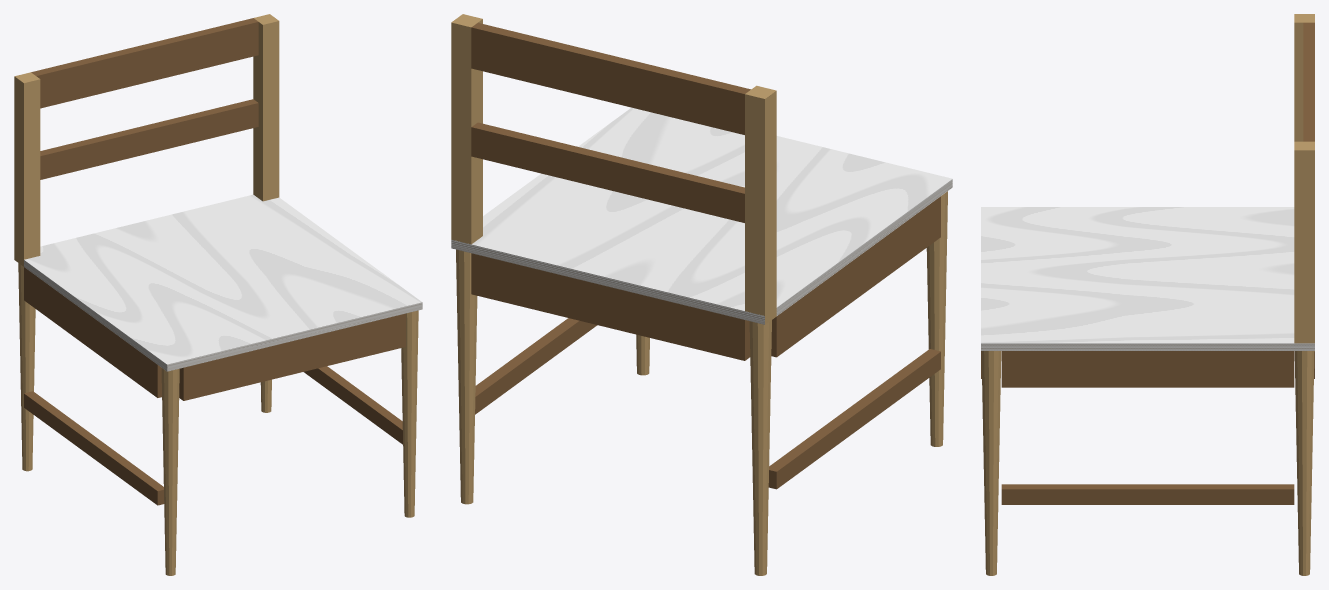
Rendered from ATL-ACC-std.glb.
3 renders of one model, left to right at view 1: azimuth 30°, elevation 25°; view 2: azimuth 150°, elevation 25°; view 3: azimuth 270°, elevation 25°, orthographic. The views are drawn at different scales.
Visible parts, largest first — view 1: seat:sheet:eyJtIjoicGx5Iiwic2lkZSI6ImZhY2UiLCJzZWVkIjo2LCJ2Z, back-top:pbr, rail-f:pbr, leg-bl:pbr, back-mid:pbr, leg-br:pbr, rail-l:pbr, stretcher-l:pbr, leg-fl:pbr, leg-fr:pbr, stretcher-r:pbr, seat:sheet:eyJtIjoicGx5Iiwic2lkZSI6ImVkZ2UtZW5kIiwic2VlZCI6N (+1 smaller); view 2: seat:sheet:eyJtIjoicGx5Iiwic2lkZSI6ImZhY2UiLCJzZWVkIjo2LCJ2Z, back-top:pbr, leg-bl:pbr, rail-b:pbr, leg-br:pbr, back-mid:pbr, rail-l:pbr, stretcher-l:pbr, leg-fl:pbr, stretcher-r:pbr, seat:sheet:eyJtIjoicGx5Iiwic2lkZSI6ImVkZ2UtZW5kIiwic2VlZCI6N, seat:sheet:eyJtIjoicGx5Iiwic2lkZSI6ImVkZ2UtbG9uZyIsInNlZWQiO; view 3: seat:sheet:eyJtIjoicGx5Iiwic2lkZSI6ImZhY2UiLCJzZWVkIjo2LCJ2Z, rail-r:pbr, leg-br:pbr, stretcher-r:pbr, leg-fr:pbr, seat:sheet:eyJtIjoicGx5Iiwic2lkZSI6ImVkZ2UtbG9uZyIsInNlZWQiO, back-top:pbr, leg-bl:pbr.
Part boxes in pixels (x1=…): seat:sheet:eyJtIjoicGx5Iiwic2lkZSI6ImZhY2UiLCJzZWVkIjo2LCJ2Z: x1=24, y1=194, x2=421, y2=364; back-top:pbr: x1=31, y1=18, x2=258, y2=108; rail-f:pbr: x1=179, y1=313, x2=405, y2=400; leg-bl:pbr: x1=14, y1=72, x2=40, y2=471; back-mid:pbr: x1=40, y1=99, x2=258, y2=179; leg-br:pbr: x1=253, y1=14, x2=279, y2=412; rail-l:pbr: x1=24, y1=267, x2=161, y2=397; stretcher-l:pbr: x1=24, y1=391, x2=164, y2=505; leg-fl:pbr: x1=161, y1=368, x2=179, y2=575; leg-fr:pbr: x1=401, y1=310, x2=418, y2=517; stretcher-r:pbr: x1=304, y1=366, x2=402, y2=444; seat:sheet:eyJtIjoicGx5Iiwic2lkZSI6ImVkZ2UtZW5kIiwic2VlZCI6N: x1=167, y1=302, x2=422, y2=371; seat:sheet:eyJtIjoicGx5Iiwic2lkZSI6ImZhY2UiLCJzZWVkIjo2LCJ2Z: x1=471, y1=107, x2=952, y2=310; back-top:pbr: x1=471, y1=23, x2=750, y2=134; leg-bl:pbr: x1=745, y1=85, x2=776, y2=575; rail-b:pbr: x1=471, y1=253, x2=750, y2=360; leg-br:pbr: x1=451, y1=14, x2=482, y2=504; back-mid:pbr: x1=471, y1=122, x2=744, y2=222; rail-l:pbr: x1=771, y1=196, x2=940, y2=357; stretcher-l:pbr: x1=768, y1=349, x2=940, y2=489; leg-fl:pbr: x1=926, y1=191, x2=947, y2=446; stretcher-r:pbr: x1=475, y1=318, x2=597, y2=414; seat:sheet:eyJtIjoicGx5Iiwic2lkZSI6ImVkZ2UtZW5kIiwic2VlZCI6N: x1=451, y1=239, x2=764, y2=324; seat:sheet:eyJtIjoicGx5Iiwic2lkZSI6ImVkZ2UtbG9uZyIsInNlZWQiO: x1=776, y1=179, x2=952, y2=315; seat:sheet:eyJtIjoicGx5Iiwic2lkZSI6ImZhY2UiLCJzZWVkIjo2LCJ2Z: x1=981, y1=207, x2=1294, y2=343; rail-r:pbr: x1=1001, y1=351, x2=1294, y2=387; leg-br:pbr: x1=1294, y1=141, x2=1314, y2=575; stretcher-r:pbr: x1=1001, y1=484, x2=1294, y2=504; leg-fr:pbr: x1=981, y1=351, x2=1001, y2=575; seat:sheet:eyJtIjoicGx5Iiwic2lkZSI6ImVkZ2UtbG9uZyIsInNlZWQiO: x1=981, y1=343, x2=1314, y2=350; back-top:pbr: x1=1303, y1=22, x2=1314, y2=141; leg-bl:pbr: x1=1294, y1=14, x2=1314, y2=141.
Bounding box in the file's own units: 0.5601 × 0.82 × 0.58.
15 materials, 3 textured.
